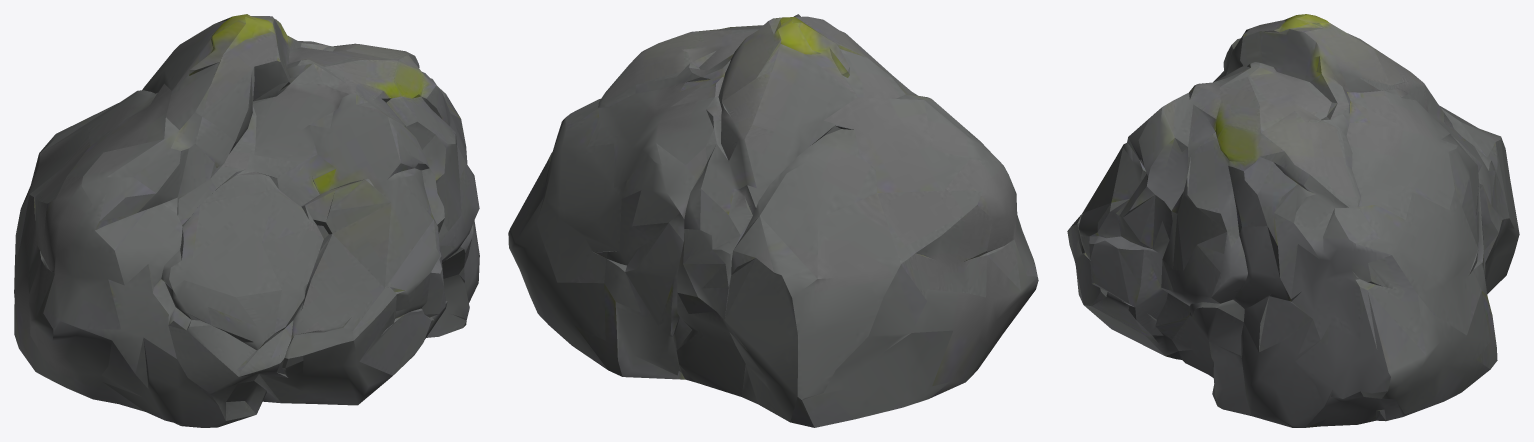
The model's file is rock.glb.
3 views of the same model, side by side, from view 1: azimuth 30°, elevation 25°; view 2: azimuth 150°, elevation 25°; view 3: azimuth 270°, elevation 25° (orthographic). The views are drawn at different scales.
Size of the model in its own units: 1.9 by 1.21 by 1.6.
1 material, 1 textured.
